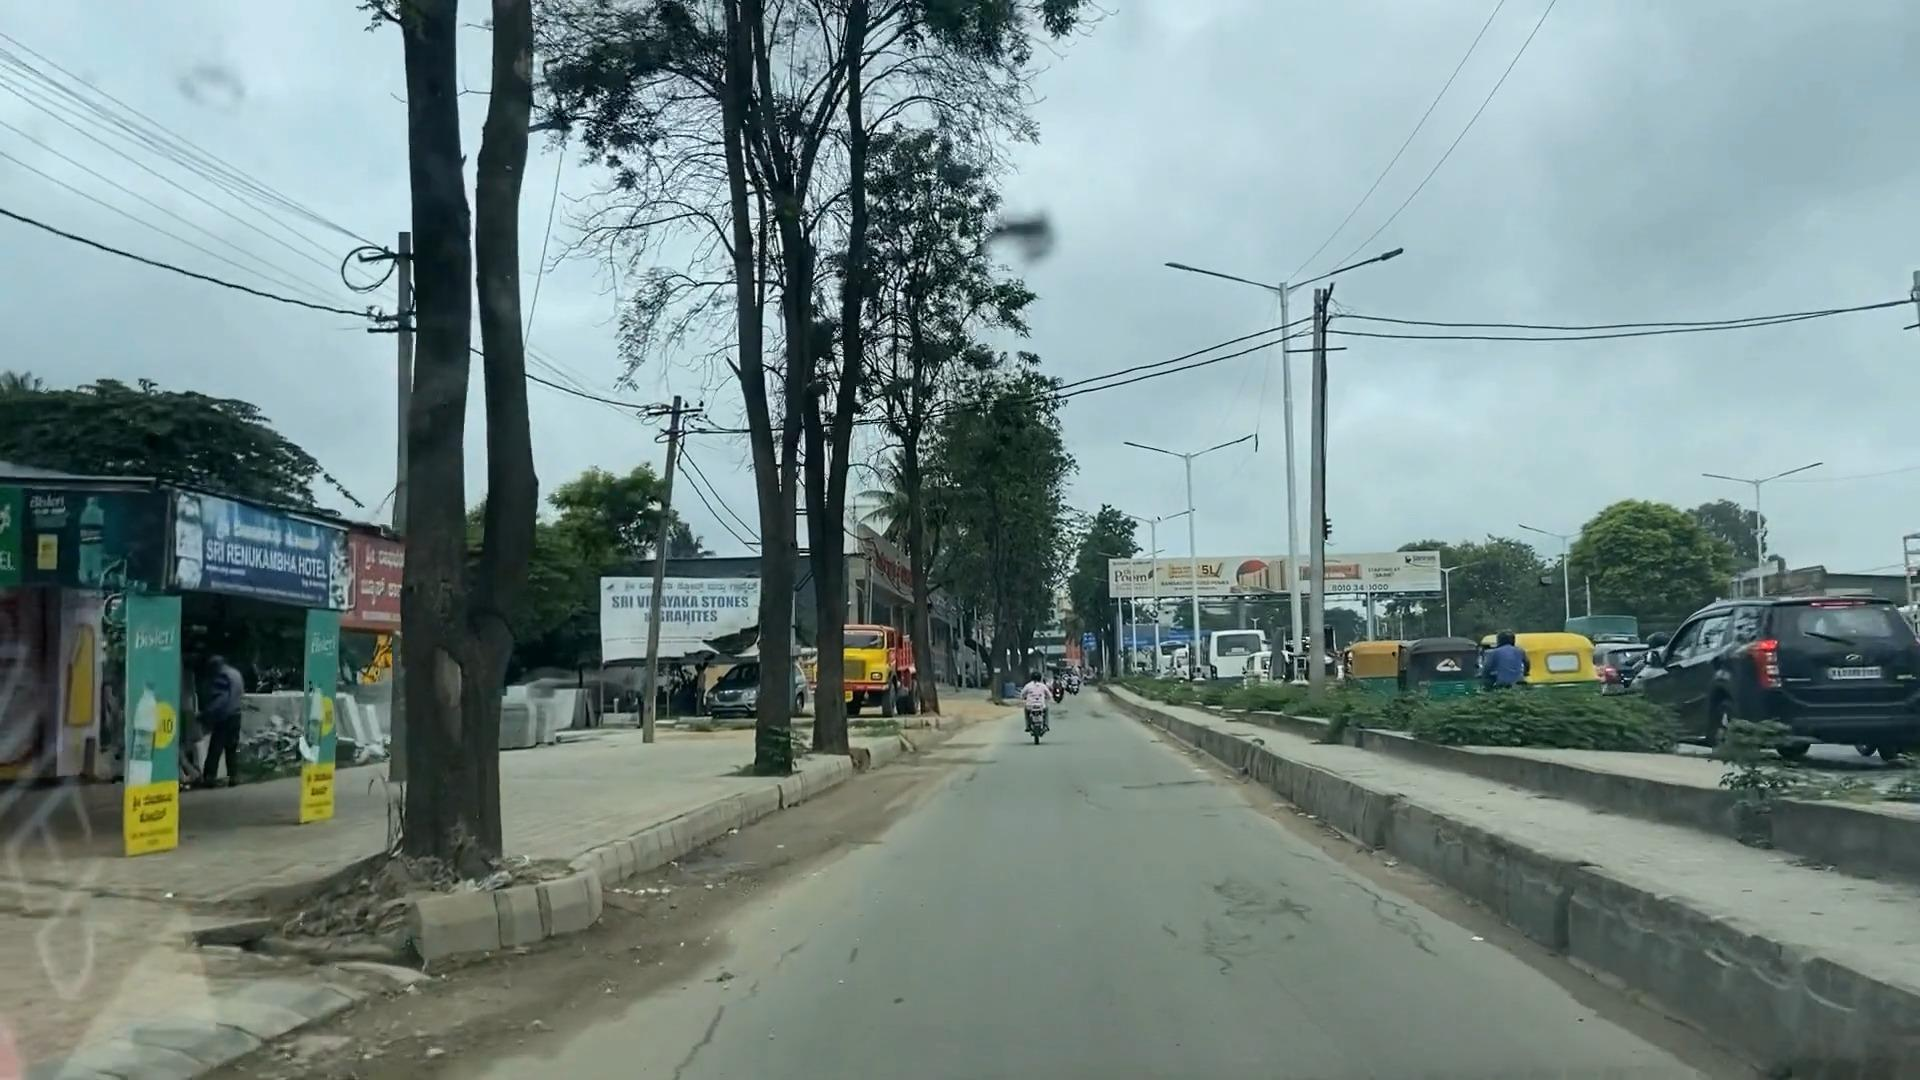RoadDamages: (1174, 844, 1371, 1013)
